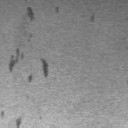red iron: (9, 48, 24, 72), (40, 58, 48, 78), (26, 6, 34, 22), (54, 6, 60, 14), (16, 118, 20, 128), (90, 13, 94, 22), (29, 75, 32, 82)
